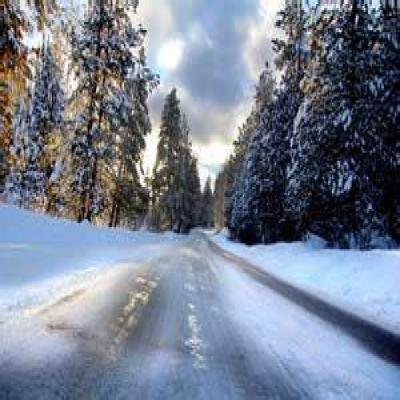iced-road: (0, 237, 400, 400)
